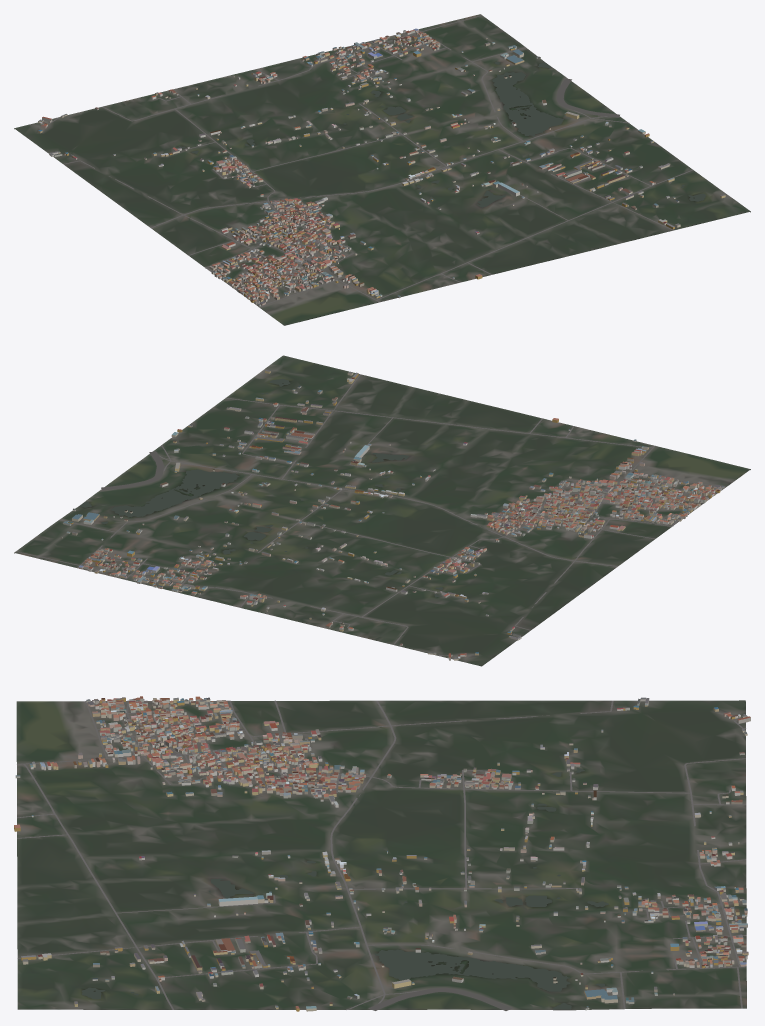
3 views of the same model, one above another, from view 1: azimuth 30°, elevation 25°; view 2: azimuth 150°, elevation 25°; view 3: azimuth 270°, elevation 25° (orthographic). The views are drawn at different scales.
Visible parts, largest first — view 1: ground, buildings, roads, water; view 2: ground, buildings, roads, water; view 3: ground, buildings, roads, water.
Part boxes in pixels (bbox=[...]): ground: bbox=[14, 14, 750, 325]; buildings: bbox=[38, 28, 725, 306]; roads: bbox=[49, 15, 692, 307]; water: bbox=[178, 61, 706, 207]; ground: bbox=[14, 355, 750, 666]; buildings: bbox=[60, 370, 724, 660]; roads: bbox=[16, 374, 725, 656]; water: bbox=[80, 379, 442, 597]; ground: bbox=[16, 700, 746, 1010]; buildings: bbox=[14, 696, 750, 1011]; roads: bbox=[17, 700, 746, 1010]; water: bbox=[81, 767, 608, 1009].
Size of the model in its own units: 1413 by 18.55 by 1417.
